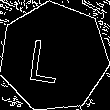L_N: (35, 29, 73, 84)
